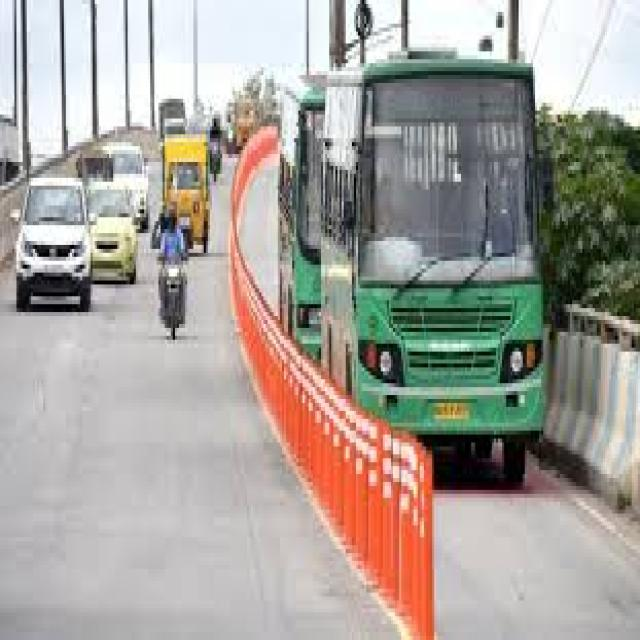bus: (321, 55, 541, 482), (278, 83, 323, 360)
car: (16, 178, 88, 312), (88, 186, 134, 284), (105, 142, 146, 229)
motorcycle: (161, 261, 185, 340)
person: (163, 213, 183, 265)
three wheeler: (163, 134, 208, 253)
